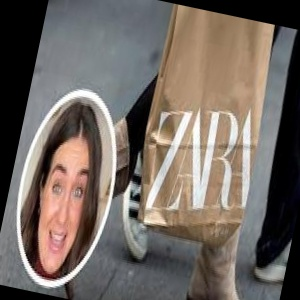zara: (176, 56, 300, 174)
